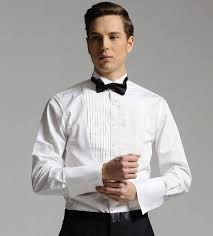F_shirt: (32, 71, 193, 214)
